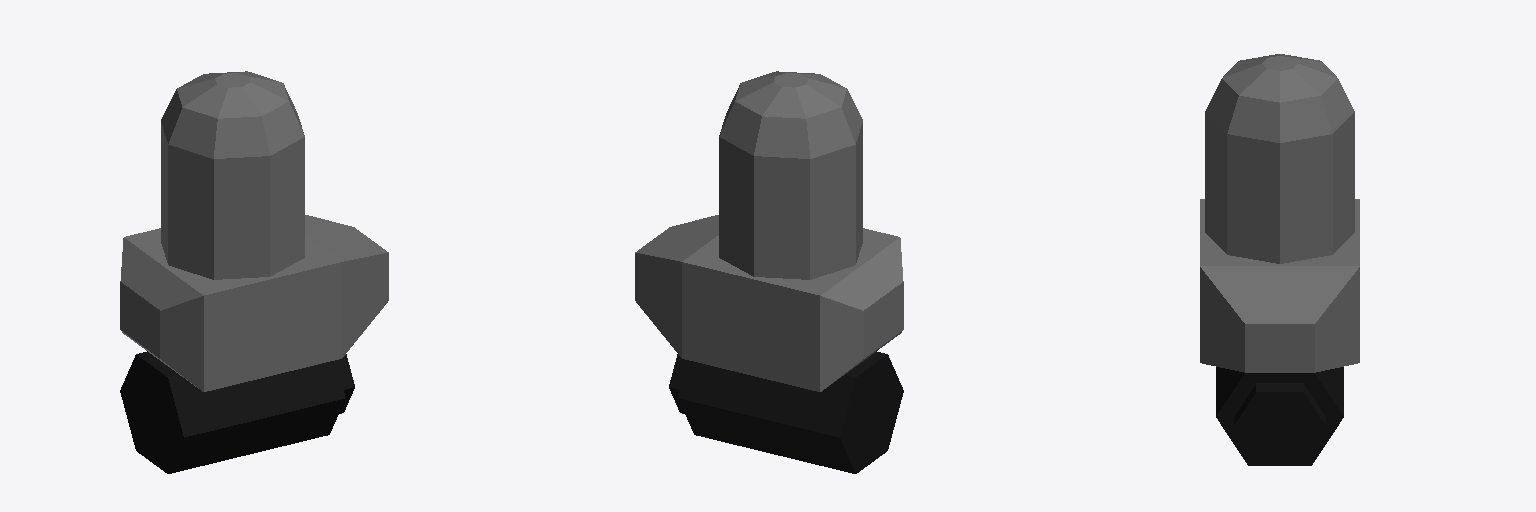
The model's file is Pitch.obj.
3 views of the same model, side by side, from view 1: azimuth 30°, elevation 25°; view 2: azimuth 150°, elevation 25°; view 3: azimuth 270°, elevation 25° (orthographic).
Visible parts, largest first — view 1: Cube.001; view 2: Cube.001; view 3: Cube.001.
Part boxes in pixels (x1,y1,x2,y2): Cube.001: (120, 71, 388, 473); Cube.001: (635, 71, 903, 473); Cube.001: (1200, 54, 1359, 465).
Bounding box in the file's own units: 0.5 × 0.7498 × 0.3.